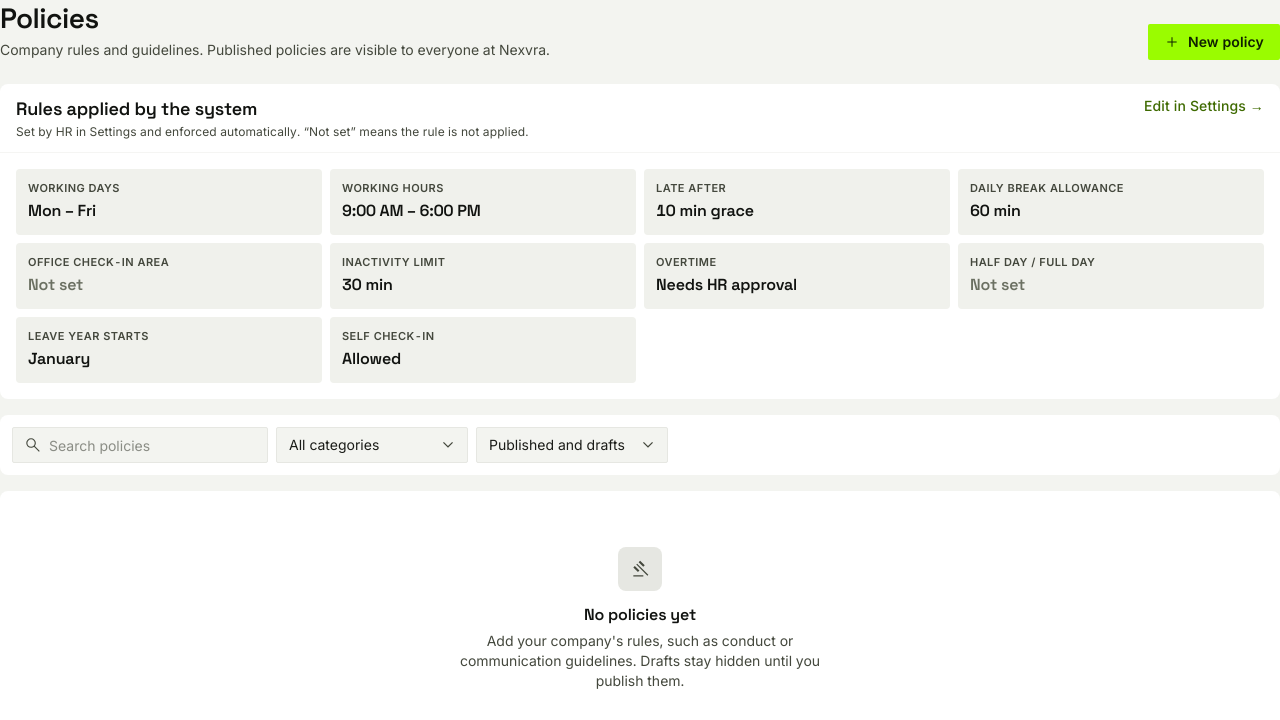
Policies page › lets HR publish a new policy and shows server validation errors
Expected: the text "No policies yet" is shown, [584, 603, 696, 627]
Click the button "New policy". click: (1214, 42)
box: [1148, 24, 1279, 60]
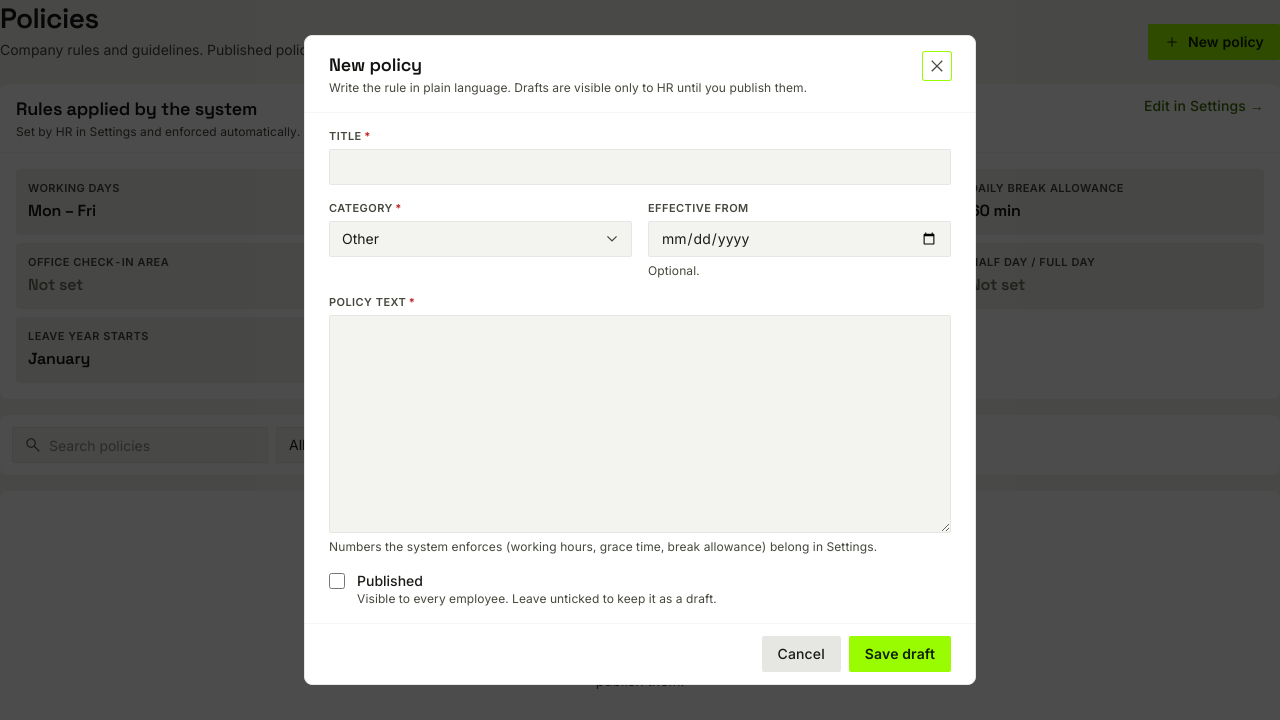
Type "Team chat" into the field labelled "Title*". click: (640, 167)
box: [329, 149, 951, 185]
Select "Communication" in the dropdown labelled "Category*". click: (480, 239)
box: [329, 221, 632, 257]
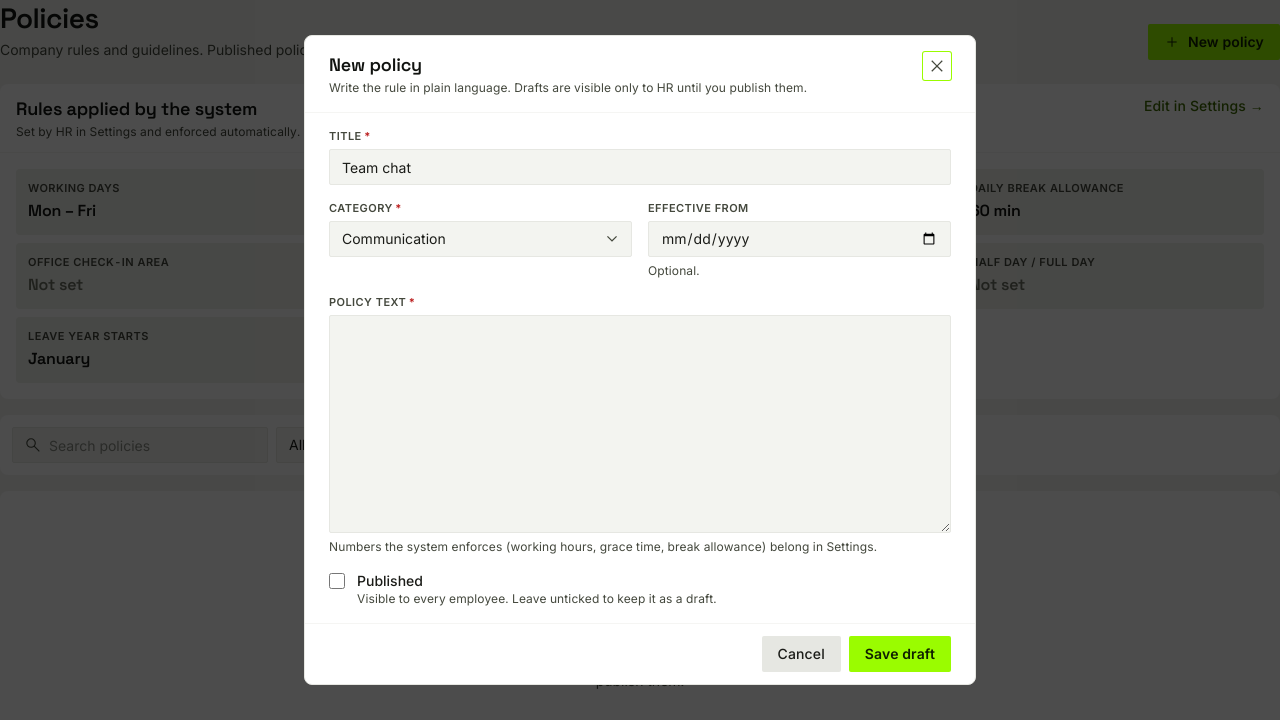
Type "Reply within one working day." into the text box labelled "Policy text*". click: (640, 424)
box: [329, 315, 951, 533]
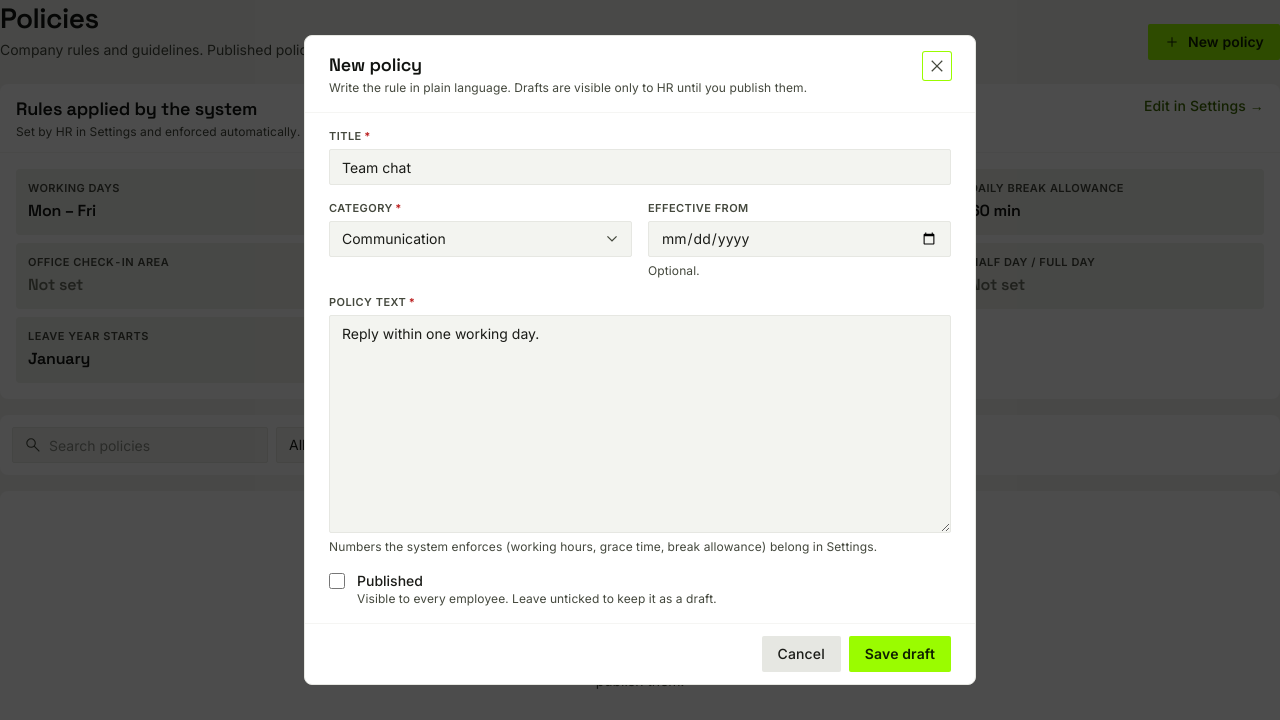
Click the checkbox labelled "Published". click: (337, 581)
box: [329, 573, 345, 589]
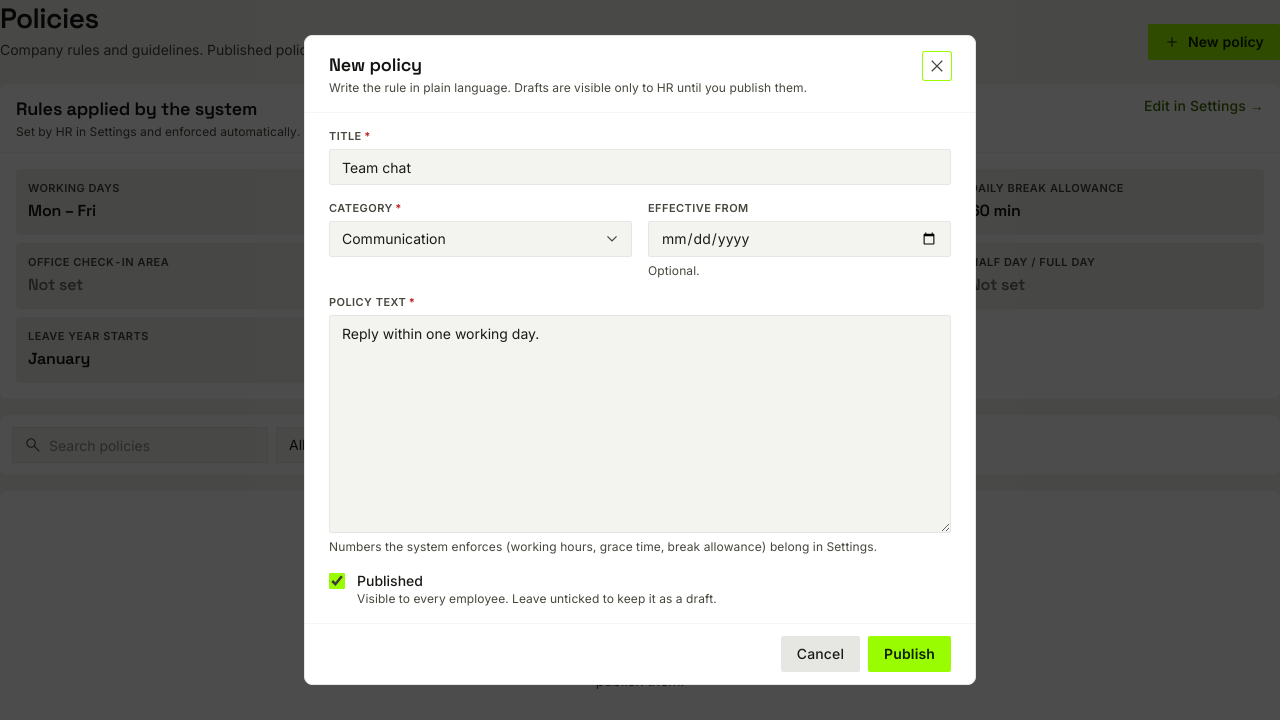
Click the button "Publish". click: (910, 654)
box: [868, 636, 951, 672]
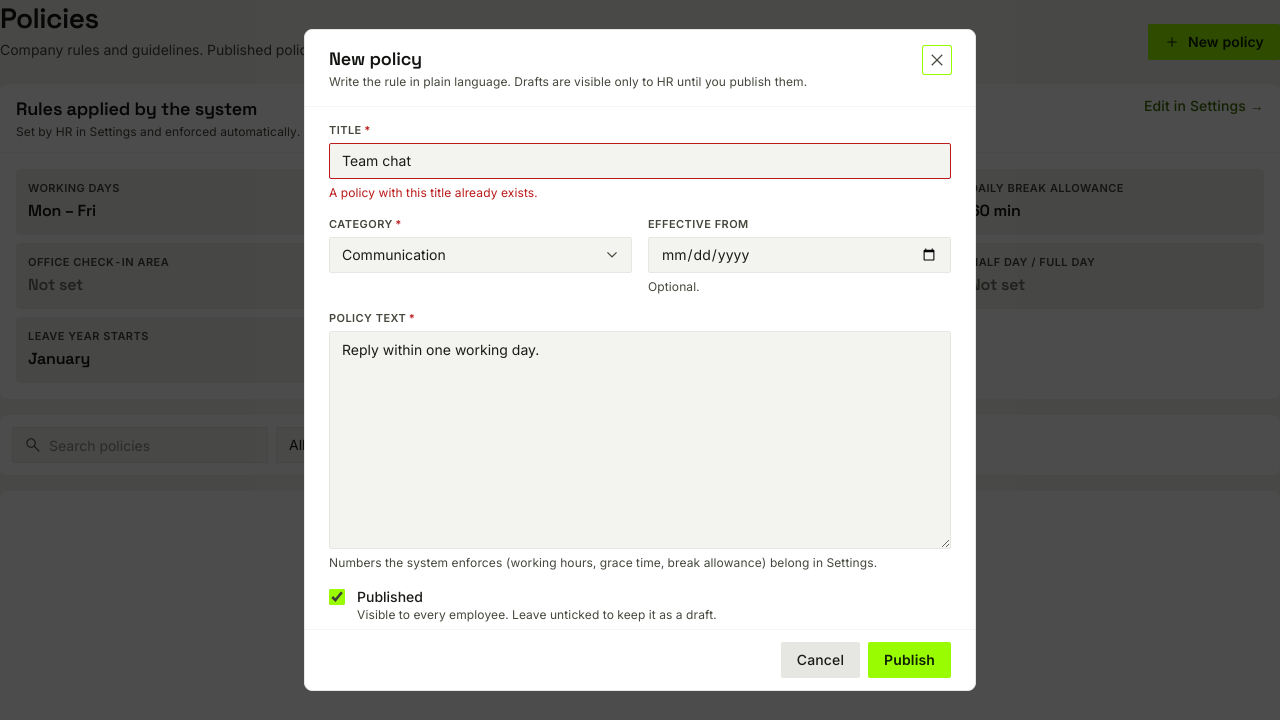
Result: the text "A policy with this title already exists." is shown at [329, 185, 538, 200]
Click the button "Publish". click: (910, 660)
box: [868, 642, 951, 678]
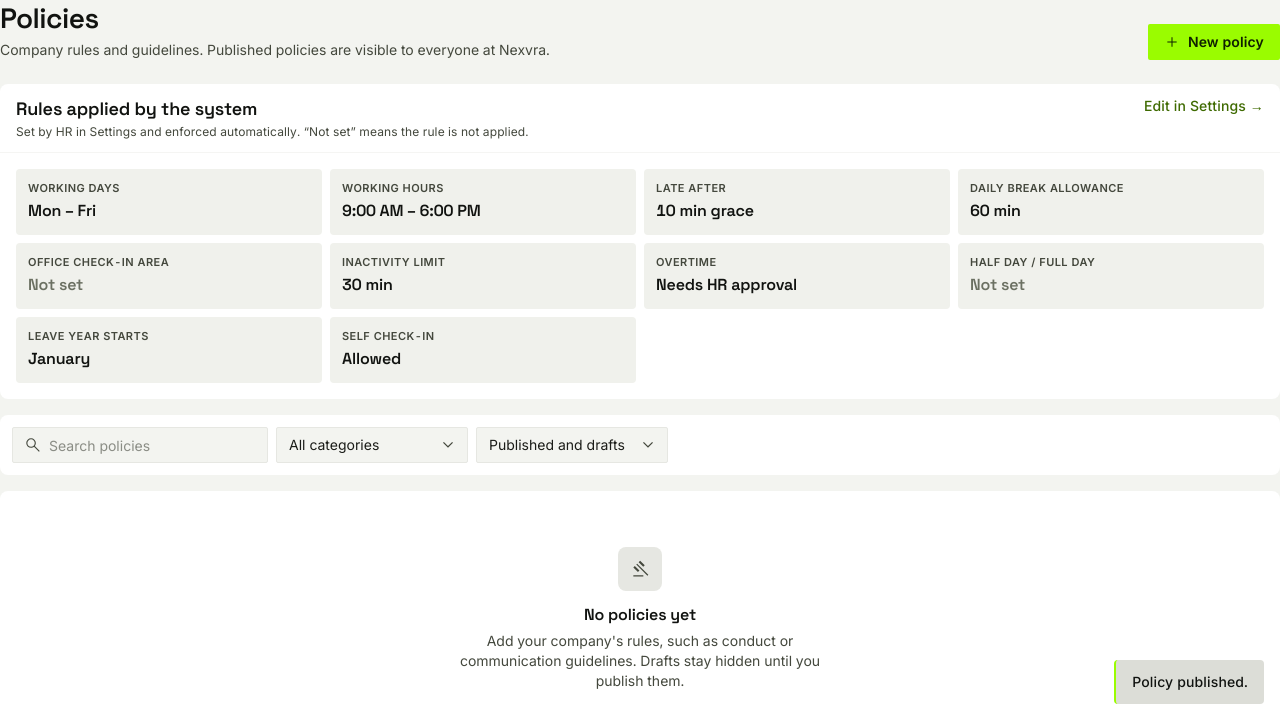
Result: the text "Policy published." is shown at [1114, 660, 1264, 704]
